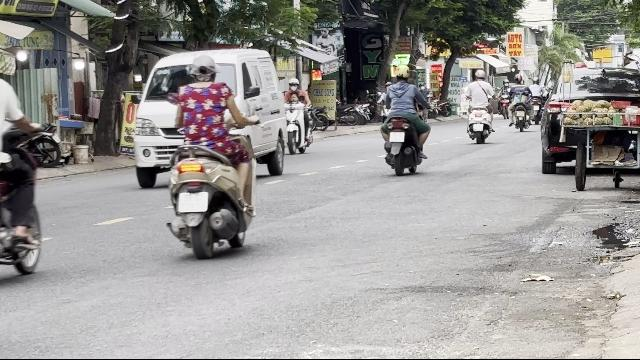helmet: (394, 65, 410, 81)
licenseplate: (179, 192, 207, 212), (389, 132, 403, 140)
motorcyclist: (162, 53, 260, 258), (378, 64, 430, 174)
nohelmet: (188, 52, 218, 84)
